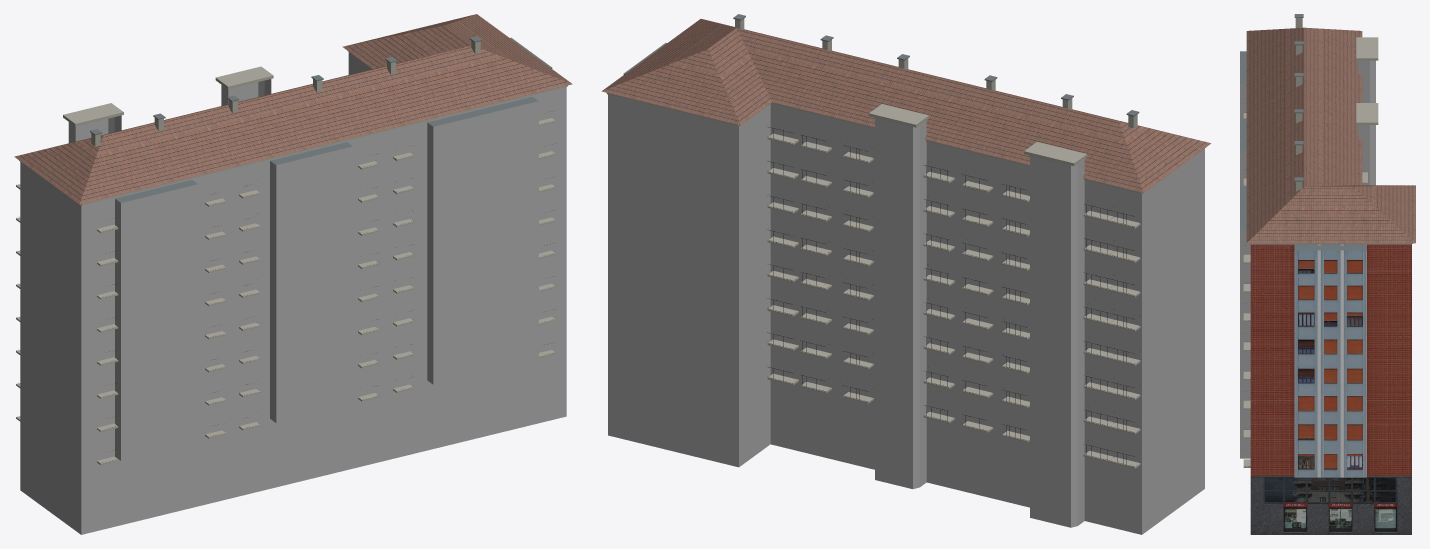
The model's file is Molassi_Fotografico.fbx.
3 views of the same model, side by side, from view 1: azimuth 30°, elevation 25°; view 2: azimuth 150°, elevation 25°; view 3: azimuth 270°, elevation 25° (orthographic). The views are drawn at different scales.
Visible parts, largest first — view 1: Fronte | Fronte foto, Copertura | Copertura foto, Fronte | Basamento fronte, Aggetto fronte 3 | Fronte foto, Aggetto fronte 2 | Fronte foto, Aggetto fronte 1 | Fronte foto, Sinistra | Retro foto, Balconi solette | Cornici, Fianchi aggetti | Fronte foto, Sinistra | Basamento retro, Chiusure aggetti | Metallo, Coronamento vani scala | Cornici (+4 smaller); view 2: Retro arretrato | Retro foto, Copertura | Copertura foto, Retro testata | Retro foto, Retro arretrato | Basamento retro, Sinistra | Retro foto, Vano scala 2 | Retro foto, Vano scala 1 | Retro foto, Balconi solette | Cornici, Retro testata | Basamento retro, Rientranza | Retro foto, Balconi ringhiere | Ringhiere MASK, Sinistra | Basamento retro (+5 smaller); view 3: Copertura | Copertura foto, Destra | Destra foto, Aggetto destra | Destra foto, Destra | Basamento destra, Fianchi aggetti | Fronte foto, Chiusure aggetti | Metallo, Coronamento vani scala | Cornici, Vano scala 1 | Retro foto, Balconi solette | Cornici, Vano scala 2 | Retro foto, Comignoli | Cornici, Cornicioni | Cornici (+1 smaller).
Boxes of the visible parts, bbox=[...] form: Fronte | Fronte foto: bbox=[81, 87, 566, 468]; Copertura | Copertura foto: bbox=[14, 14, 572, 204]; Fronte | Basamento fronte: bbox=[81, 350, 566, 534]; Aggetto fronte 3 | Fronte foto: bbox=[433, 101, 538, 384]; Aggetto fronte 2 | Fronte foto: bbox=[276, 146, 353, 422]; Aggetto fronte 1 | Fronte foto: bbox=[121, 184, 197, 460]; Sinistra | Retro foto: bbox=[20, 162, 81, 468]; Balconi solette | Cornici: bbox=[16, 118, 555, 464]; Fianchi aggetti | Fronte foto: bbox=[115, 122, 433, 460]; Sinistra | Basamento retro: bbox=[20, 424, 81, 534]; Chiusure aggetti | Metallo: bbox=[115, 37, 551, 202]; Coronamento vani scala | Cornici: bbox=[63, 66, 273, 126]; Retro arretrato | Retro foto: bbox=[770, 103, 1141, 466]; Copertura | Copertura foto: bbox=[601, 19, 1210, 192]; Retro testata | Retro foto: bbox=[608, 94, 738, 398]; Retro arretrato | Basamento retro: bbox=[770, 380, 1141, 534]; Sinistra | Retro foto: bbox=[1142, 149, 1204, 465]; Vano scala 2 | Retro foto: bbox=[1030, 155, 1084, 458]; Vano scala 1 | Retro foto: bbox=[875, 117, 926, 420]; Balconi solette | Cornici: bbox=[767, 133, 1140, 468]; Retro testata | Basamento retro: bbox=[608, 367, 738, 467]; Rientranza | Retro foto: bbox=[739, 104, 770, 398]; Balconi ringhiere | Ringhiere MASK: bbox=[767, 126, 1140, 466]; Sinistra | Basamento retro: bbox=[1142, 420, 1204, 534]; Copertura | Copertura foto: bbox=[1246, 27, 1415, 243]; Destra | Destra foto: bbox=[1250, 244, 1411, 476]; Aggetto destra | Destra foto: bbox=[1294, 250, 1366, 477]; Destra | Basamento destra: bbox=[1250, 476, 1411, 534]; Fianchi aggetti | Fronte foto: bbox=[1240, 84, 1250, 458]; Chiusure aggetti | Metallo: bbox=[1240, 51, 1366, 250]; Coronamento vani scala | Cornici: bbox=[1356, 37, 1378, 124]; Vano scala 1 | Retro foto: bbox=[1358, 125, 1375, 185]; Balconi solette | Cornici: bbox=[1243, 113, 1367, 467]; Vano scala 2 | Retro foto: bbox=[1358, 60, 1375, 102]; Comignoli | Cornici: bbox=[1295, 18, 1302, 191]; Cornicioni | Cornici: bbox=[1249, 243, 1413, 244].
Bounding box in the file's own units: 47.38 × 16.38 × 33.78.
10 materials, 4 textured.
